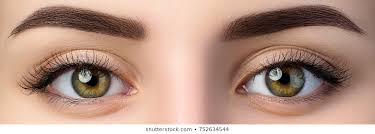pupil: (265, 63, 304, 97), (73, 65, 109, 98)
